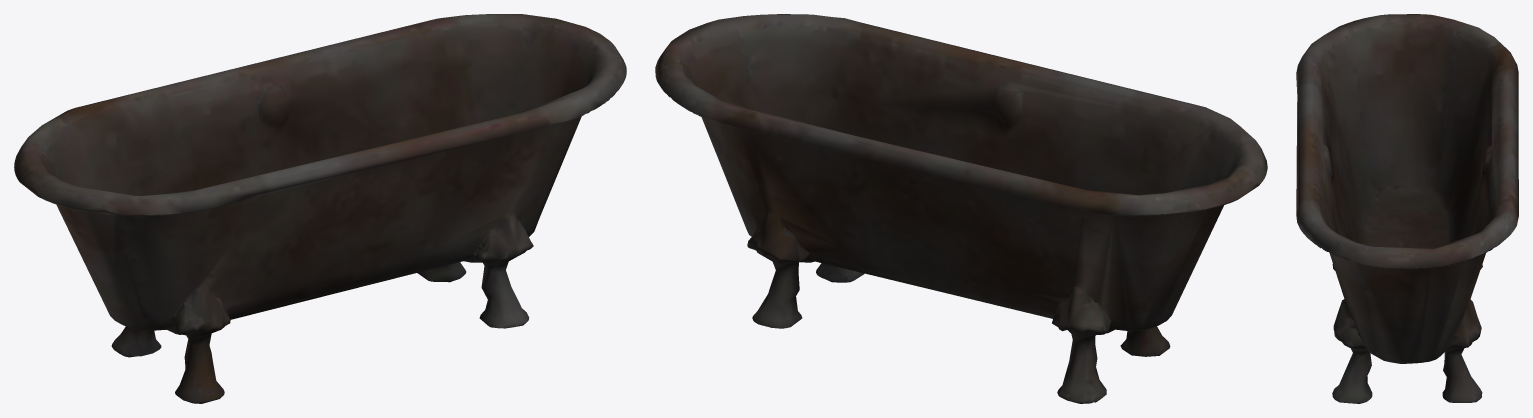
File: simple-iron-bathtub-v001.glb
3 views of the same model, side by side, from view 1: azimuth 30°, elevation 25°; view 2: azimuth 150°, elevation 25°; view 3: azimuth 270°, elevation 25° (orthographic). The views are drawn at different scales.
Visible parts, largest first — view 1: simple-iron-bathtub; view 2: simple-iron-bathtub; view 3: simple-iron-bathtub.
Part boxes in pixels (x1,y1,x2,y2): simple-iron-bathtub: [14, 14, 626, 403]; simple-iron-bathtub: [655, 14, 1267, 403]; simple-iron-bathtub: [1296, 14, 1518, 403].
Bounding box in the file's own units: 2 × 0.7583 × 0.7663.
Materials: 1 (1 with a texture image).
